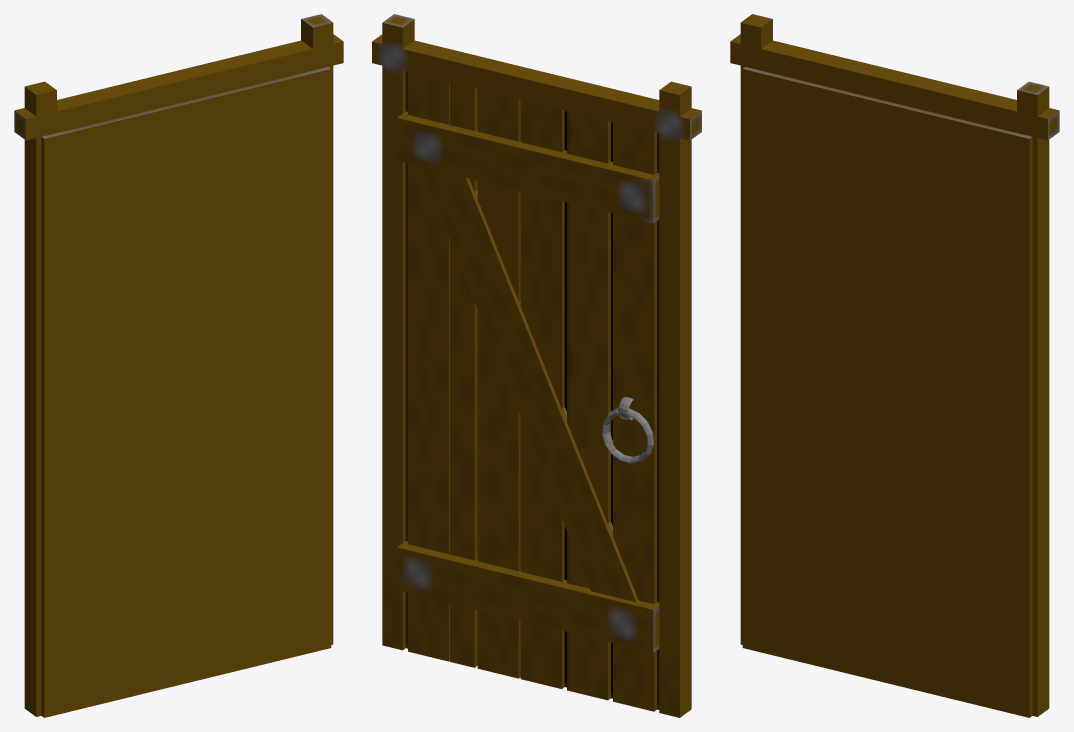
Rendered from oak_door.fbx.
The picture shows the model from 3 angles, left to right: view 1: azimuth 30°, elevation 25°; view 2: azimuth 150°, elevation 25°; view 3: azimuth 330°, elevation 25°; orthographic projection.
Visible parts, largest first — view 1: cube_12, cube_9, cube_11, cube_10; view 2: cube_9, cube_2, cube_4, cube_8, cube_3, cube, cube_1, cube_10, cube_7, cube_6, cube_5, cube_11 (+2 smaller); view 3: cube_12, cube_10, cube_11, cube_9.
Boxes of the visible parts, <box> form: cube_12: <box>41,67,331,717</box>; cube_9: <box>24,81,56,716</box>; cube_11: <box>14,34,343,140</box>; cube_10: <box>301,14,333,644</box>; cube_9: <box>659,81,691,717</box>; cube_2: <box>613,122,656,711</box>; cube_4: <box>408,72,449,661</box>; cube_8: <box>420,167,638,602</box>; cube_3: <box>520,99,564,688</box>; cube: <box>567,110,610,700</box>; cube_1: <box>477,89,520,678</box>; cube_10: <box>382,14,414,650</box>; cube_7: <box>397,111,659,223</box>; cube_6: <box>397,541,659,652</box>; cube_5: <box>450,82,477,667</box>; cube_11: <box>372,34,701,140</box>; cube_12: <box>742,67,1032,717</box>; cube_10: <box>1017,81,1049,716</box>; cube_11: <box>730,34,1059,140</box>; cube_9: <box>740,14,772,644</box>.
Bounding box in the file's own units: 96.88 × 181 × 10.94.
Materials: 1 (1 with a texture image).
